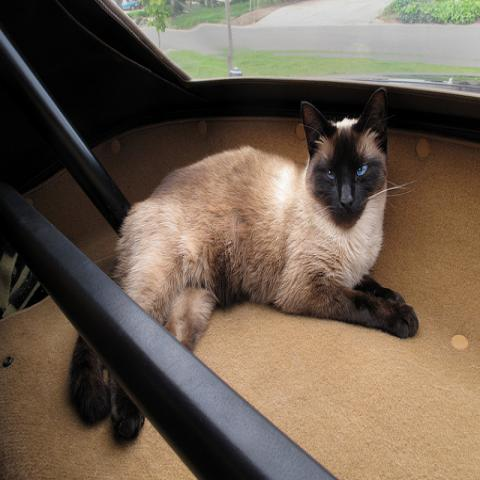car: (114, 0, 138, 11)
